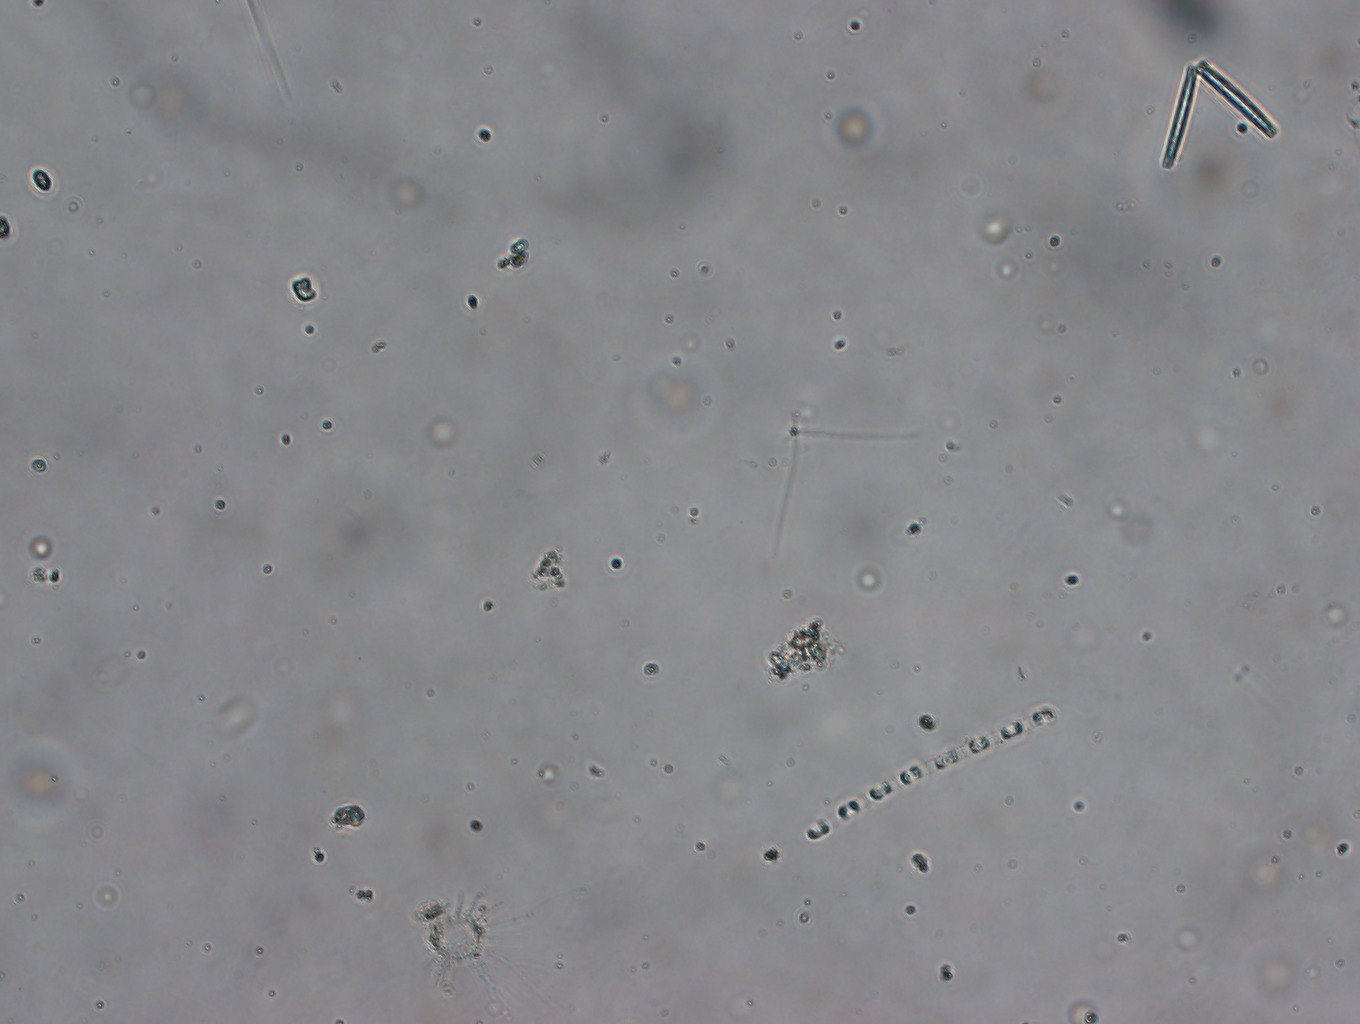skeletonema: (751, 695, 1076, 867)
thalassionema nitzschioides: (1144, 44, 1284, 174)
